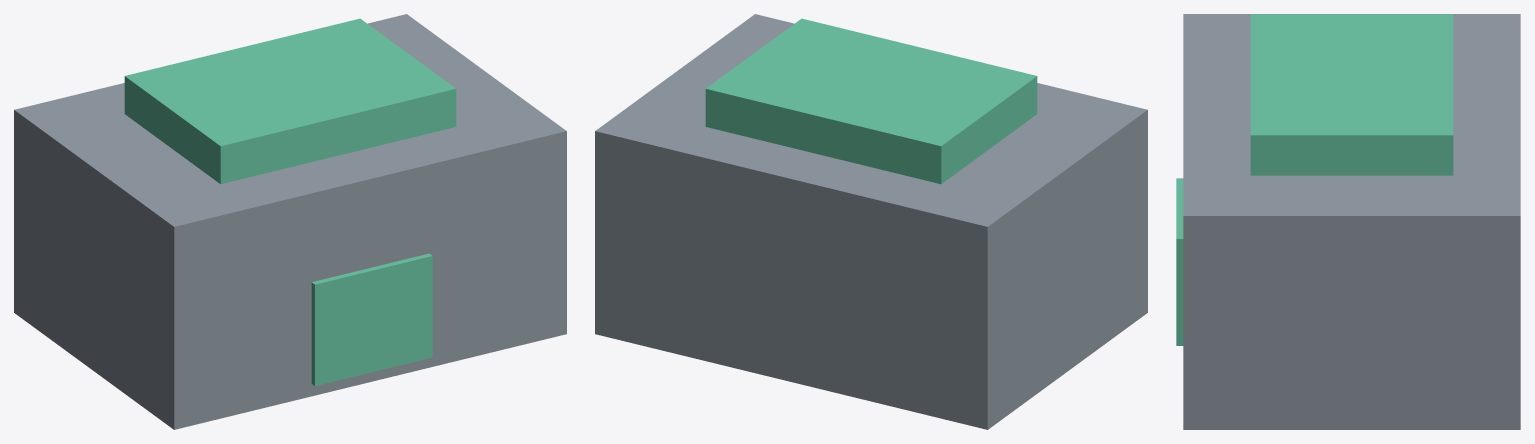
File: SM_Coalition_CO_AiravataWalker_Blockout.fbx
The picture shows the model from 3 angles, left to right: view 1: azimuth 30°, elevation 25°; view 2: azimuth 150°, elevation 25°; view 3: azimuth 270°, elevation 25°; orthographic projection. The views are drawn at different scales.
Parts seen in each view (by area): view 1: MainBuilding, RoofStructure, EntranceGate; view 2: MainBuilding, RoofStructure; view 3: MainBuilding, RoofStructure, EntranceGate.
Boxes of the visible parts, x1=… form: MainBuilding: x1=14, y1=14, x2=566, y2=429; RoofStructure: x1=124, y1=18, x2=456, y2=184; EntranceGate: x1=311, y1=253, x2=432, y2=385; MainBuilding: x1=595, y1=14, x2=1147, y2=429; RoofStructure: x1=705, y1=18, x2=1037, y2=184; MainBuilding: x1=1183, y1=14, x2=1520, y2=429; RoofStructure: x1=1250, y1=14, x2=1453, y2=175; EntranceGate: x1=1176, y1=178, x2=1183, y2=345.
Bounding box in the file's own units: 680 × 399 × 490.
